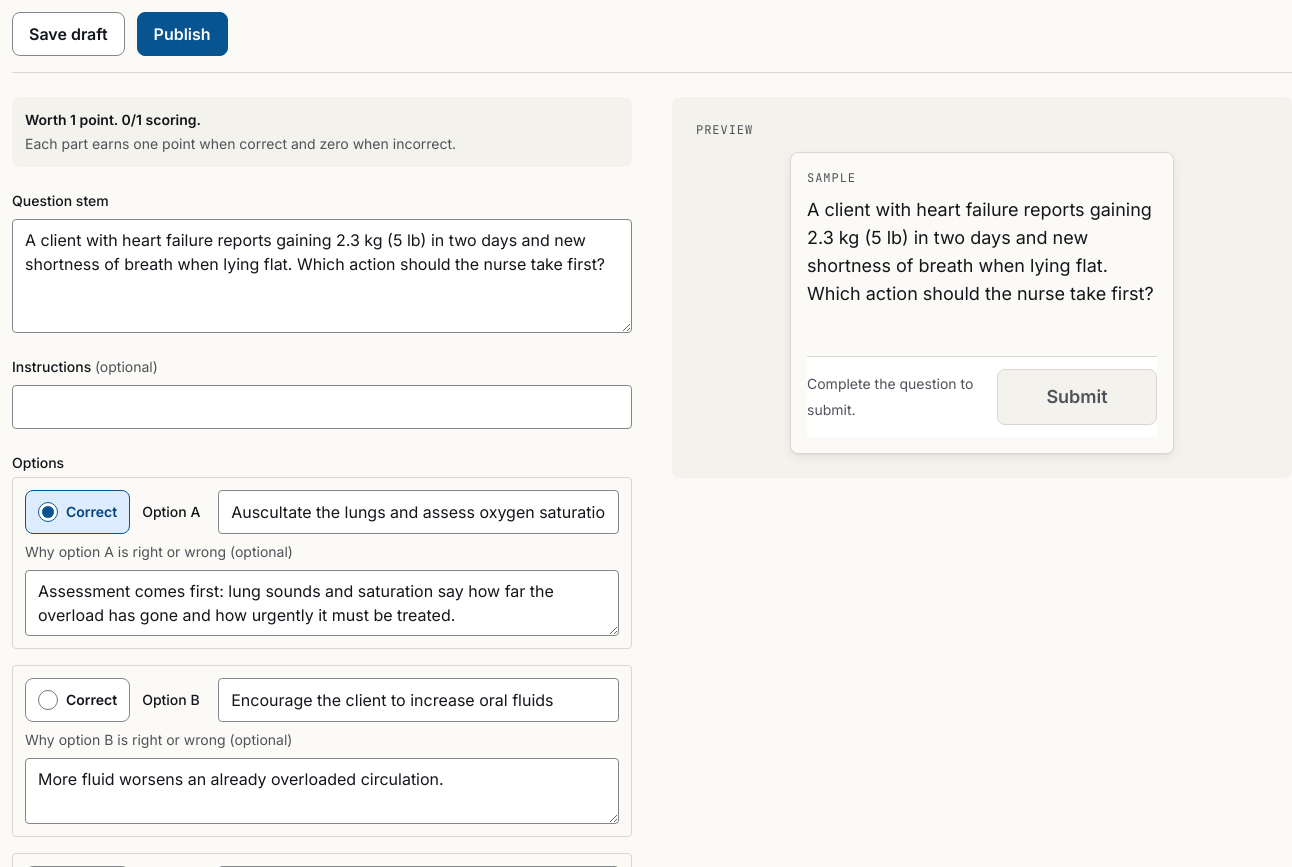
EditorShell on a published item › warns again once the draft is published
This screenshot has width=1292, height=867.
Check: the text "Saving a draft unpublishes it." is not shown
Click the button "Publish": (182, 34) [137, 12, 228, 56]
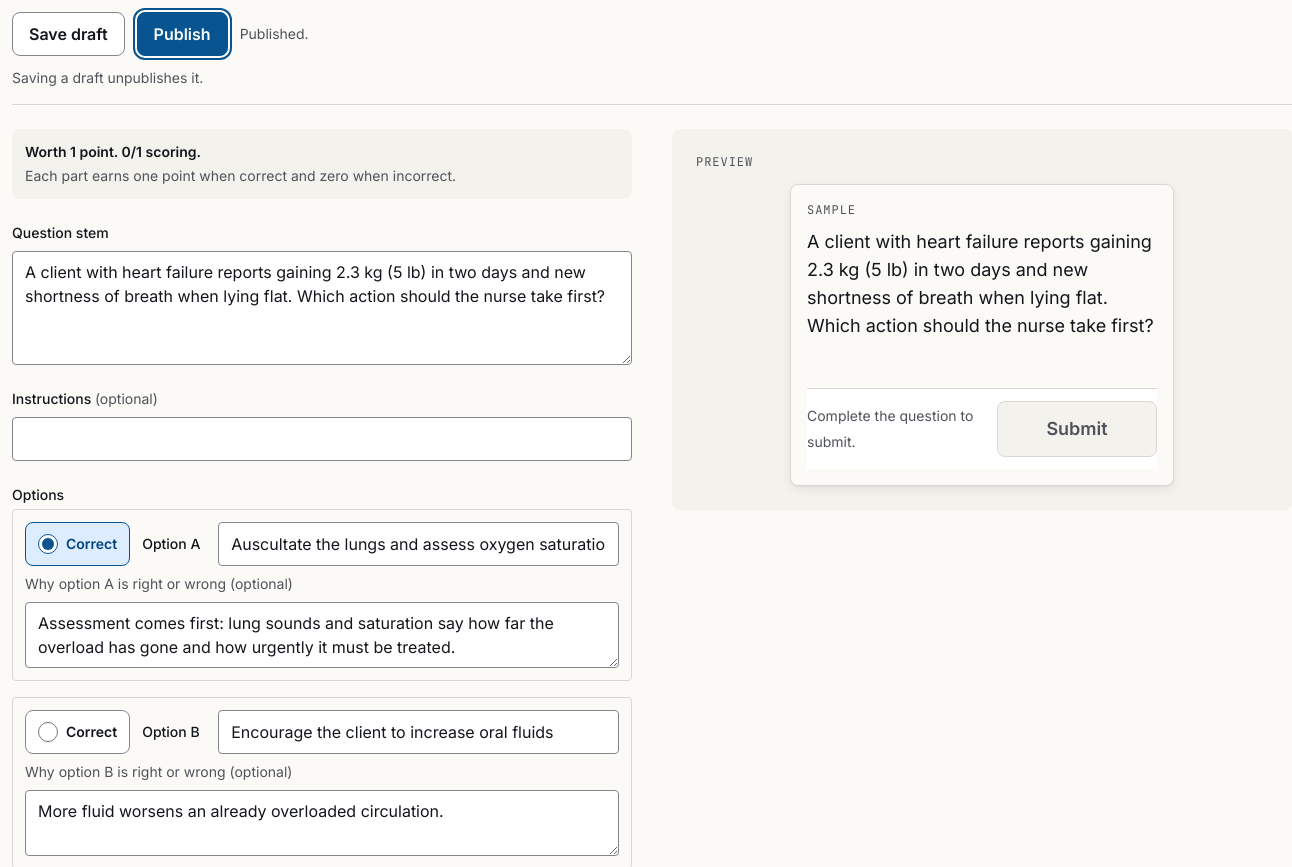
Check: the message reads "Published.", box [240, 25, 309, 42]
Check: the text "Saving a draft unpublishes it." is shown, box [12, 69, 203, 86]
